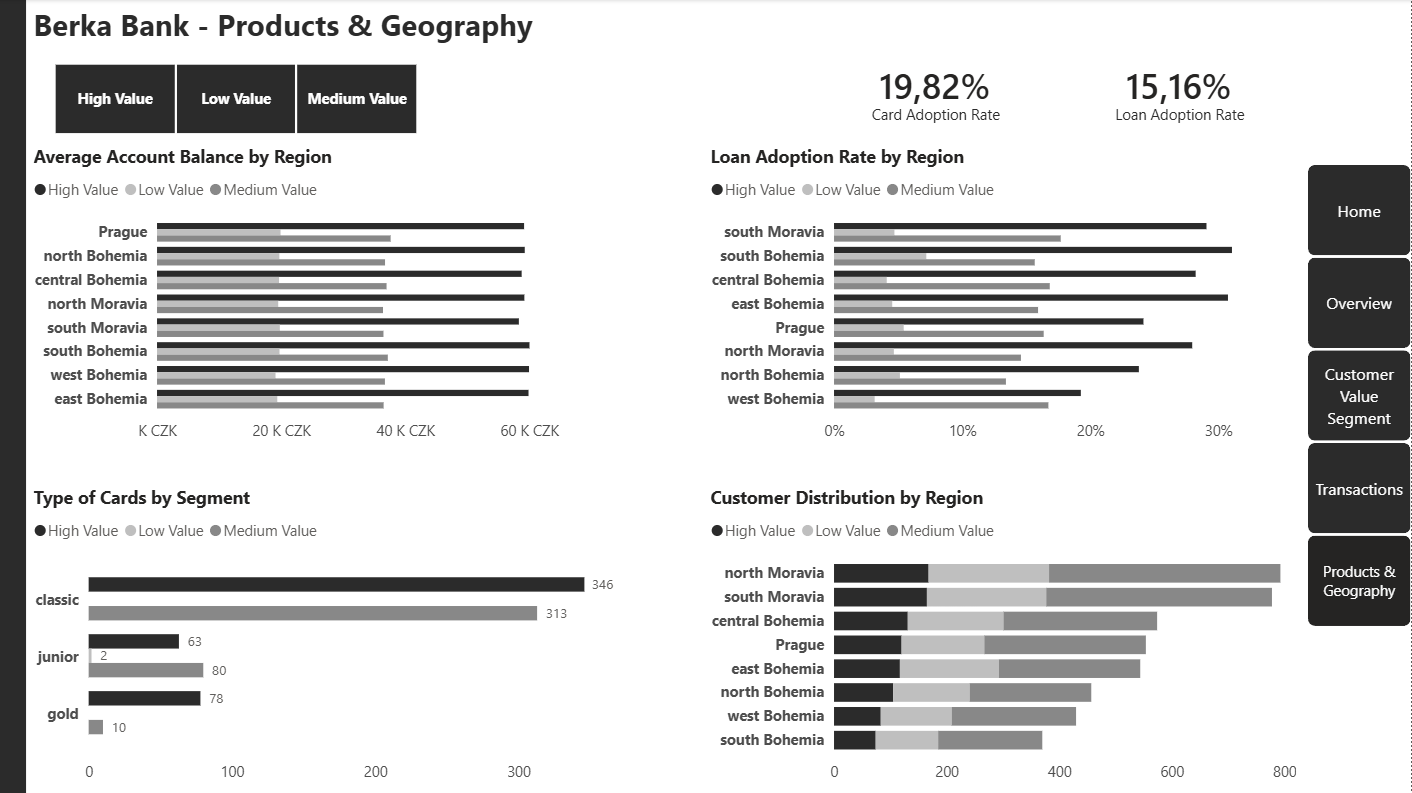

The page's visual inventory and layout, read from the dashboard file:
{"tool":"powerbi","page":{"name":"Products & Geography","canvas":[1280,720],"ordinal":4},"visuals":[{"type":"shape","box":[0,0,24.5,720.2],"z":0},{"type":"cardVisual","title":"Total Clients (Owners)","fields":{"Data":["_medidas.card_adoption_rate"]},"box":[738,33,221.7,88],"z":0,"group":"g1"},{"type":"cardVisual","title":"Total Clients (Owners)","fields":{"Data":["_medidas.loan_adoption_rate"]},"box":[959.5,33,221.7,88],"z":0,"group":"g2"},{"type":"textbox","box":[738.5,91,220.9,28.2],"z":1000,"group":"g1"},{"type":"textbox","box":[960,91,220.9,28.2],"z":1000,"group":"g2"},{"type":"pageNavigator","box":[1186.8,150.8,93.4,418.4],"z":1000},{"type":"textbox","box":[26,0,466,49],"z":2000},{"type":"group","id":"g1","title":"Grupo 1","box":[738,33,221.6,87.9],"z":3000},{"type":"group","id":"g2","title":"Grupo 1","box":[959.5,33,221.6,87.9],"z":4000},{"type":"clusteredBarChart","title":"Average Account Balance by Region","fields":{"Category":["districts.region"],"Y":["_medidas.avg_balance_account"],"Series":["accounts.client_value_segment"]},"box":[26,131.1,546.7,279.2],"z":5000},{"type":"barChart","title":"Customer Distribution by Region","fields":{"Category":["districts.region"],"Series":["accounts.client_value_segment"],"Y":["_medidas.total_clients_owners"]},"box":[640.1,440.8,541.3,279.2],"z":6000},{"type":"clusteredBarChart","title":"Loan Adoption Rate by Region","fields":{"Category":["districts.region"],"Y":["_medidas.loan_adoption_rate"],"Series":["accounts.client_value_segment"]},"box":[640.1,131.1,541.3,279.2],"z":7000},{"type":"clusteredBarChart","title":"Type of Cards by Segment","fields":{"Category":["cards.type"],"Y":["Count(cards.card_id)"],"Series":["accounts.client_value_segment"]},"box":[26,440.8,546.7,279.2],"z":8000},{"type":"slicer","fields":{"Values":["accounts.client_value_segment"]},"box":[25.6,52.2,377.2,76],"z":9000}]}

Visuals, with their boxes in screenshot pixels (x1, y1, x2, y2), scaled from the page's 1280x720 canvas onto the 1412x793 screenshot:
shape: bbox=(0, 0, 27, 792)
"Total Clients (Owners)" cardVisual: bbox=(814, 36, 1059, 133)
"Total Clients (Owners)" cardVisual: bbox=(1058, 36, 1303, 133)
textbox: bbox=(815, 100, 1058, 131)
textbox: bbox=(1059, 100, 1303, 131)
pageNavigator: bbox=(1309, 166, 1411, 627)
textbox: bbox=(29, 0, 543, 54)
"Grupo 1" group: bbox=(814, 36, 1059, 133)
"Grupo 1" group: bbox=(1058, 36, 1303, 133)
"Average Account Balance by Region" clusteredBarChart: bbox=(29, 144, 632, 452)
"Customer Distribution by Region" barChart: bbox=(706, 485, 1303, 792)
"Loan Adoption Rate by Region" clusteredBarChart: bbox=(706, 144, 1303, 452)
"Type of Cards by Segment" clusteredBarChart: bbox=(29, 485, 632, 792)
slicer - accounts.client_value_segment: bbox=(28, 57, 444, 141)
